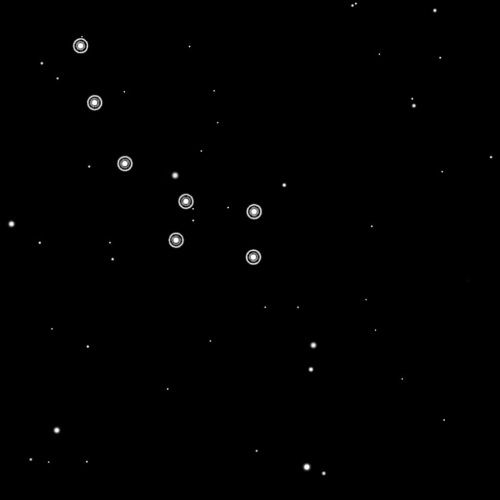ursa_minor: (68, 32, 273, 273)
